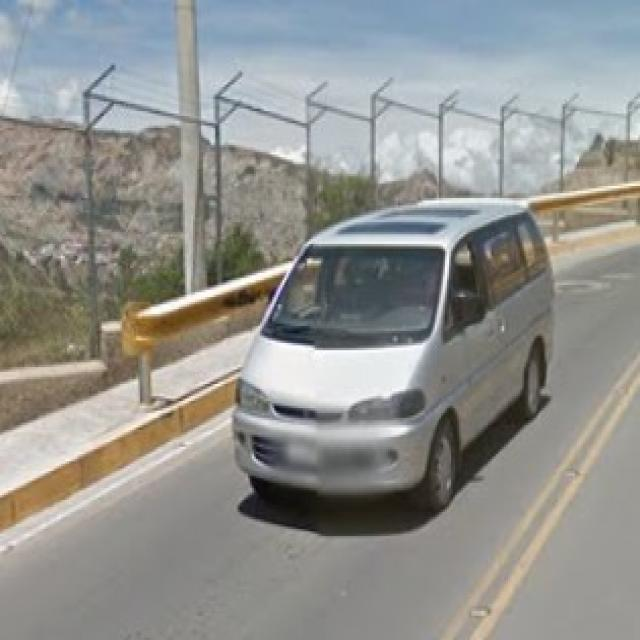Car: (240, 200, 556, 512)
